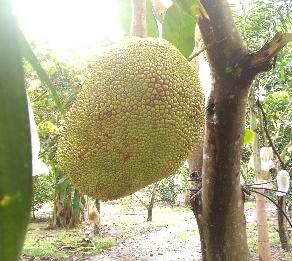Mit: (56, 37, 206, 201)
